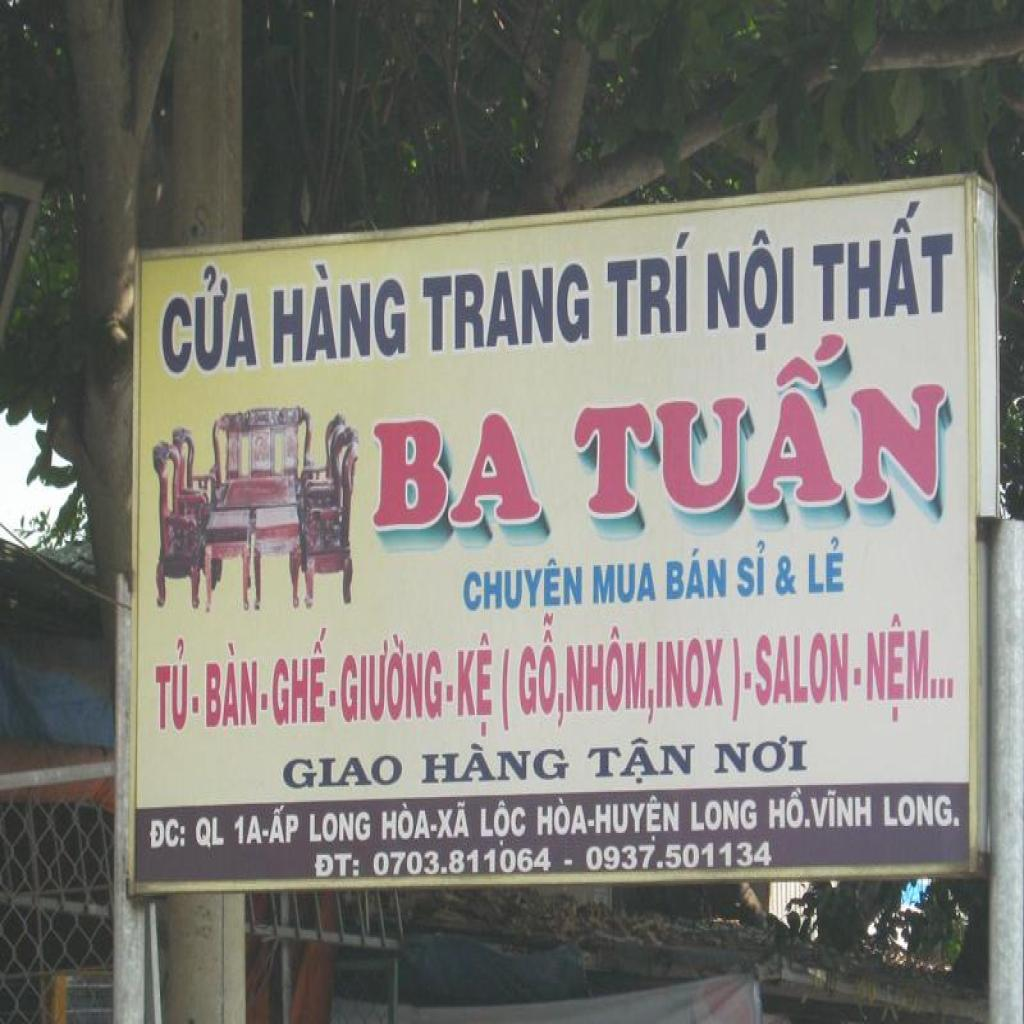text: (567, 326, 959, 541), (366, 401, 567, 544), (808, 188, 960, 326), (417, 256, 595, 358), (268, 251, 412, 374), (159, 254, 262, 381), (703, 218, 801, 350), (862, 602, 962, 729), (602, 224, 695, 343), (338, 631, 445, 729), (565, 625, 659, 727), (755, 624, 853, 712), (416, 737, 572, 792), (461, 553, 586, 614), (270, 625, 332, 732), (517, 608, 570, 732), (585, 734, 698, 792), (372, 844, 554, 880), (280, 744, 407, 794), (656, 632, 728, 715), (202, 638, 261, 732), (708, 729, 813, 780), (453, 630, 499, 739), (594, 795, 682, 843), (664, 544, 730, 606), (152, 636, 191, 734), (882, 787, 962, 831), (592, 558, 662, 606), (808, 785, 874, 831), (689, 797, 760, 835), (479, 797, 530, 848), (806, 538, 848, 599), (307, 809, 374, 846), (536, 795, 590, 840), (379, 801, 433, 843), (767, 785, 813, 831), (735, 540, 768, 602), (435, 799, 474, 843), (312, 850, 362, 884), (728, 630, 745, 727), (500, 638, 516, 736), (147, 816, 188, 853), (268, 804, 302, 846), (774, 551, 802, 601), (195, 814, 229, 850), (234, 811, 265, 848), (744, 666, 756, 693), (191, 693, 202, 715), (446, 681, 456, 705), (328, 686, 338, 708), (852, 666, 862, 688), (261, 690, 270, 714), (561, 857, 576, 870), (431, 821, 439, 834), (262, 828, 270, 840), (588, 819, 596, 828)
